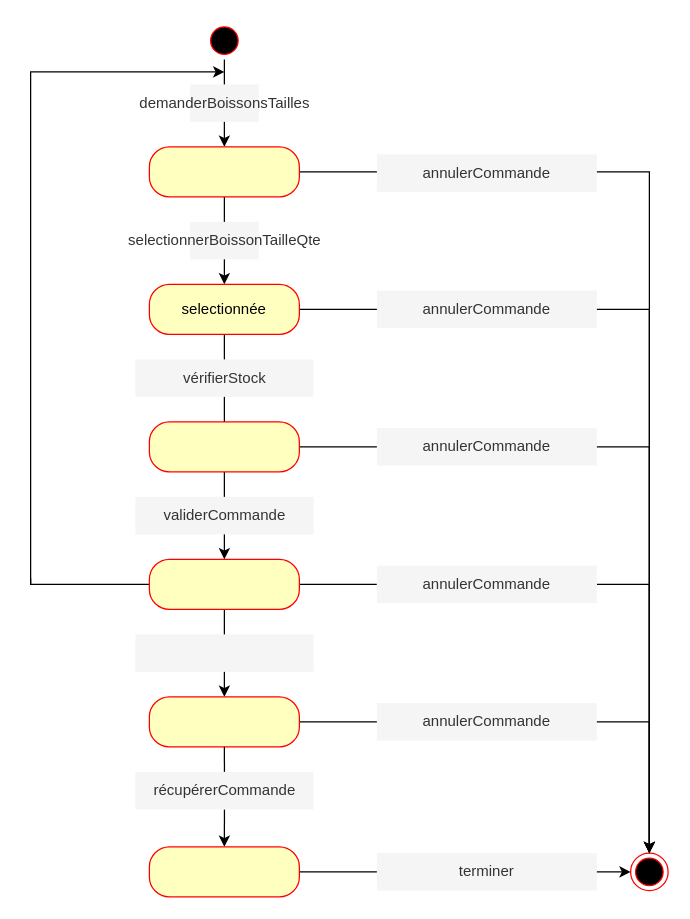
Image size: 690x919. Some labels were removed from this diagram. The centre of each missing label's shape, as x and y in pixels:
"consultée" goes at (x=223, y=171).
"payer" goes at (x=224, y=652).
"payée" goes at (x=223, y=721).
"récupérée" goes at (x=223, y=871).
"validée" goes at (x=223, y=583).
"vérifié" goes at (x=223, y=446).
